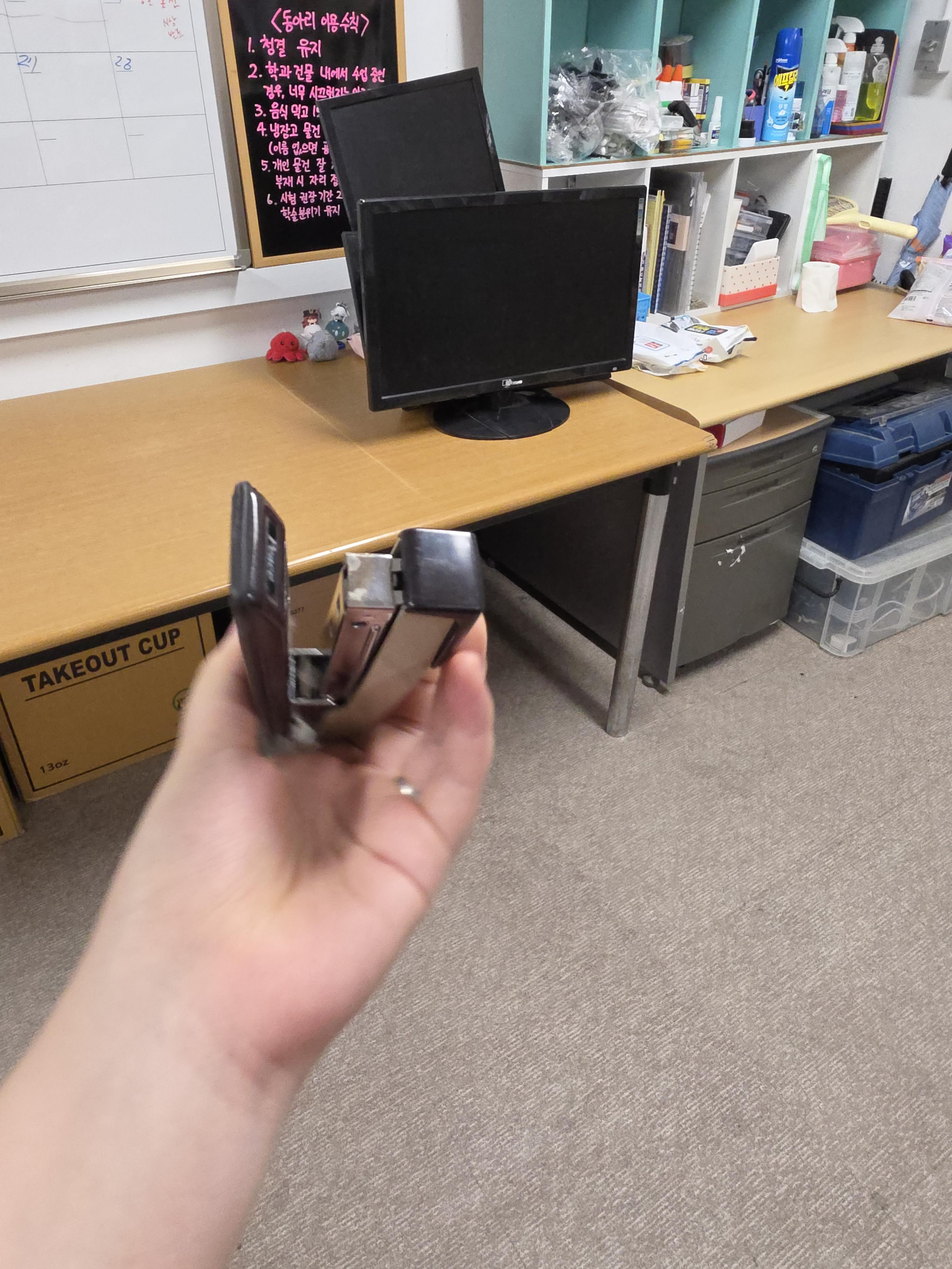stapler: (228, 482, 484, 762)
